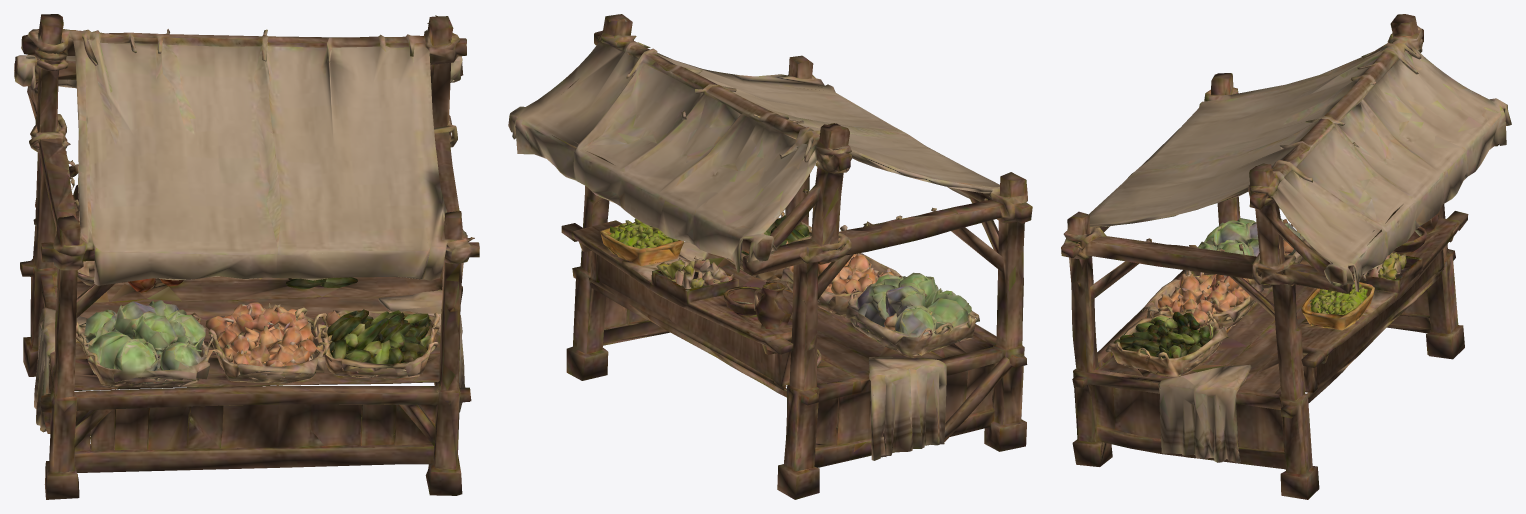
File: vegetable-market-stall-pixal3d.glb
3 renders of one model, left to right at view 1: azimuth 30°, elevation 25°; view 2: azimuth 150°, elevation 25°; view 3: azimuth 270°, elevation 25°, orthographic. The views are drawn at different scales.
Visible parts, largest first — view 1: geometry_0; view 2: geometry_0; view 3: geometry_0.
Boxes of the visible parts, box(x1,y1,x2,y2) form: geometry_0: box(14, 14, 479, 499); geometry_0: box(508, 14, 1032, 499); geometry_0: box(1061, 14, 1511, 499).
Bounding box in the file's own units: 3.57 × 2.79 × 3.25.
Materials: 1 (1 with a texture image).
